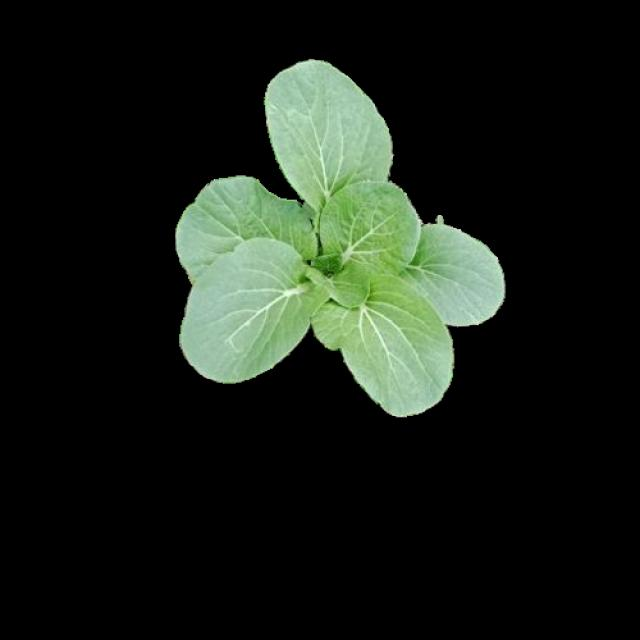healthy: (173, 56, 502, 415)
not-mature: (176, 59, 504, 417)
